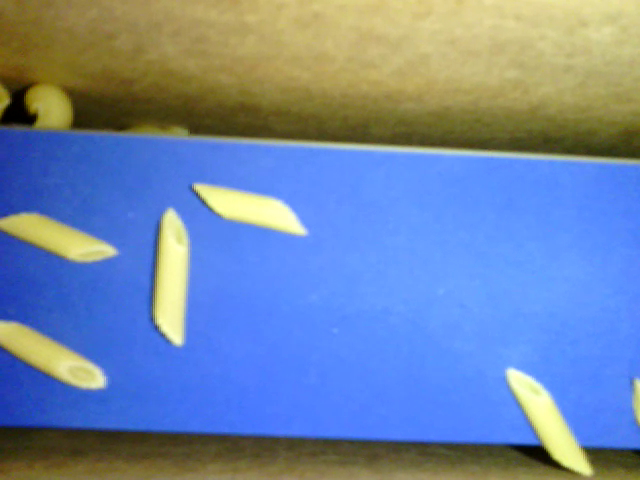penne: (503, 367, 594, 475), (3, 317, 111, 396), (1, 210, 121, 265), (191, 182, 308, 238), (148, 207, 190, 352)
shell: (25, 81, 75, 138)
